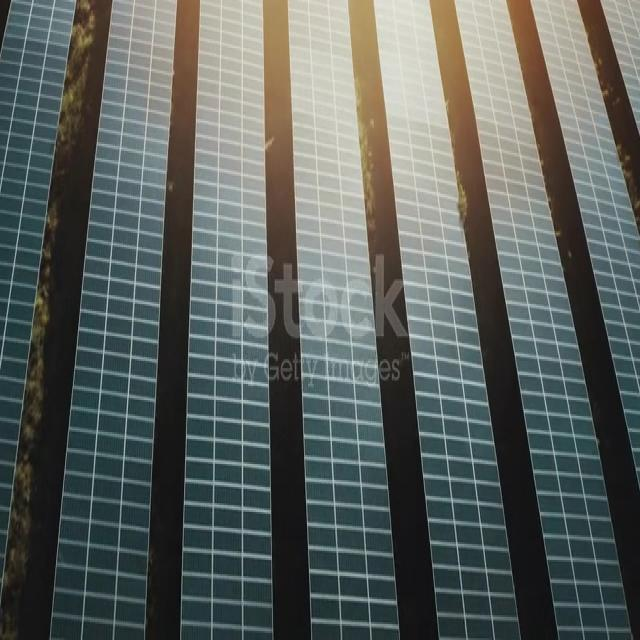Solar-panels: (456, 1, 634, 640), (373, 2, 522, 640), (51, 1, 178, 640), (288, 1, 400, 640), (182, 1, 273, 639), (533, 3, 640, 488), (1, 3, 77, 599)
